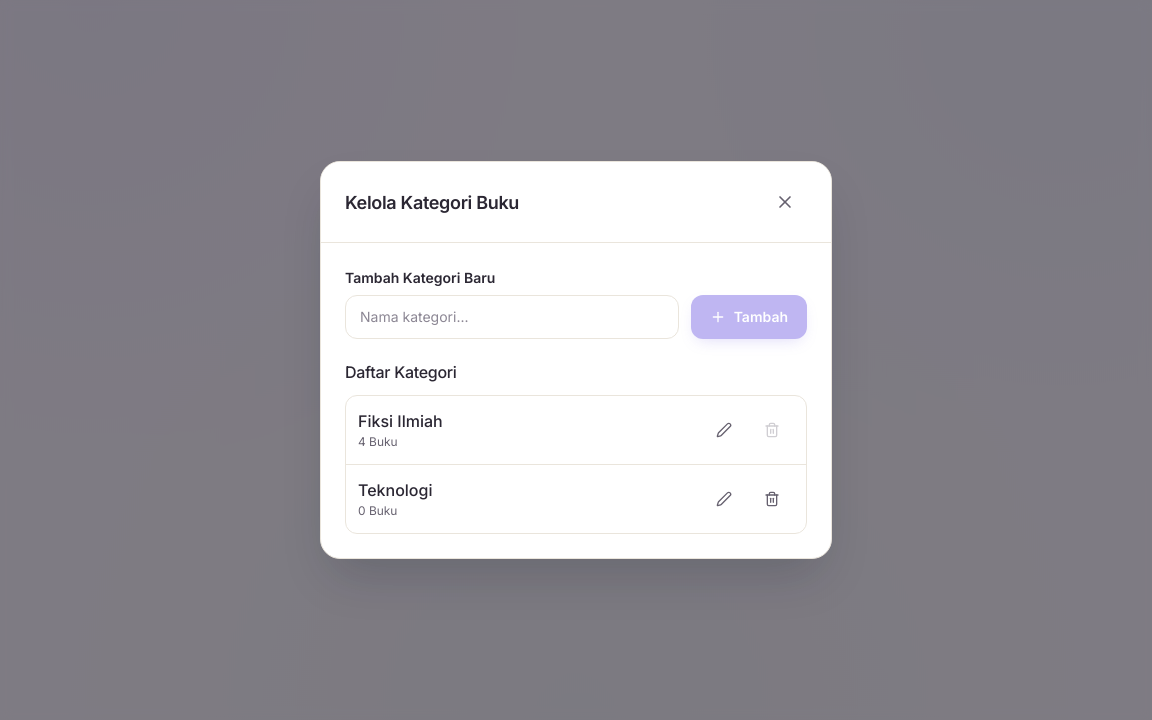
Test: CategoryFormModal Component › should allow editing a category and cancelling edit
The image size is (1152, 720).
Check: the text "Teknologi" is shown, box [358,478,432,502]
Click edit on "Teknologi"
Step 1. Click the button named "Edit kategori Teknologi" → (724,499), box [702,477,746,521]
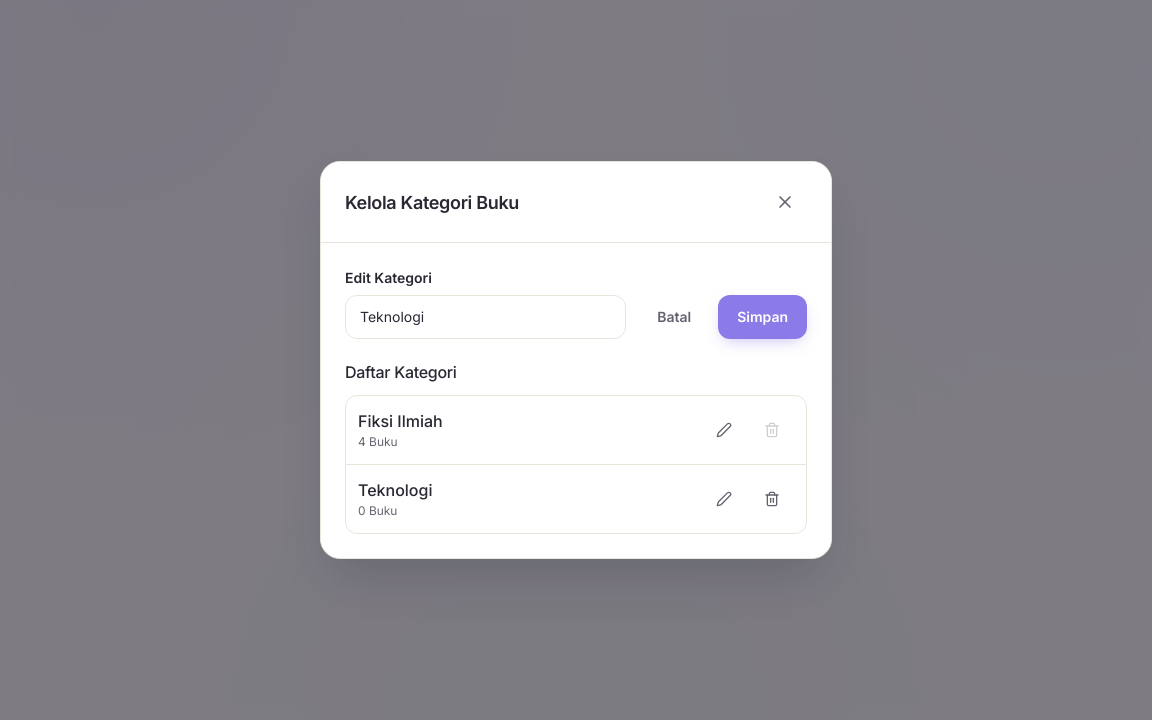
Check: the text "Edit Kategori" is shown, box [345,269,432,286]
Check: the field with placeholder "Nama kategori..." holds "Teknologi", box [345,295,626,339]
Click "Batal"
Step 2. Click the button "Batal" → (674,317), box [638,295,710,339]
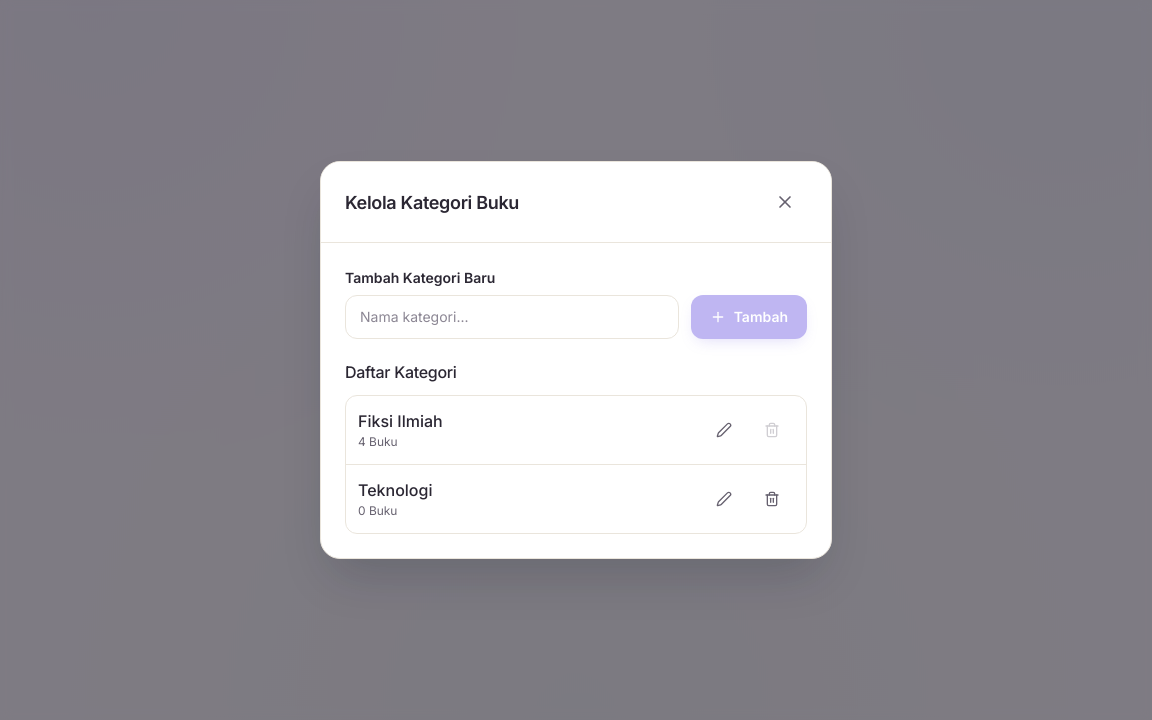
Check: the text "Tambah Kategori Baru" is shown, box [345,269,495,286]
Check: the field with placeholder "Nama kategori..." is empty, box [345,295,679,339]
